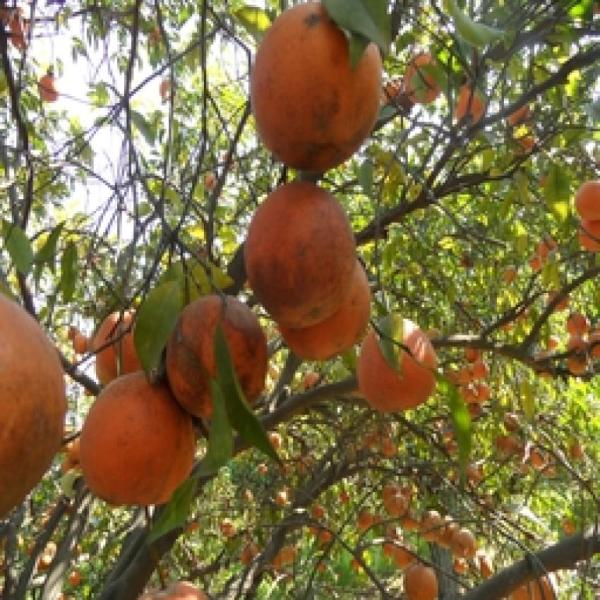Canker: (241, 5, 393, 180), (0, 284, 75, 522), (77, 371, 200, 505), (243, 181, 358, 324), (166, 293, 269, 423), (353, 314, 448, 424), (87, 303, 162, 378)
